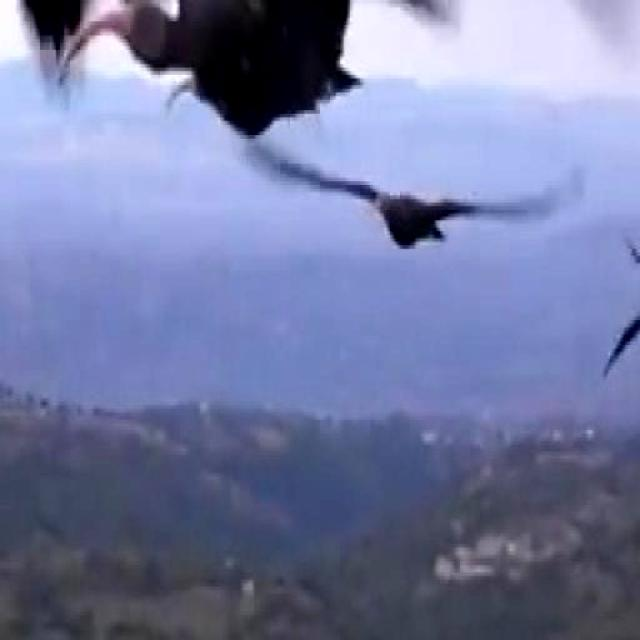airplane: (0, 0, 631, 125), (278, 151, 608, 308), (572, 291, 640, 432)
